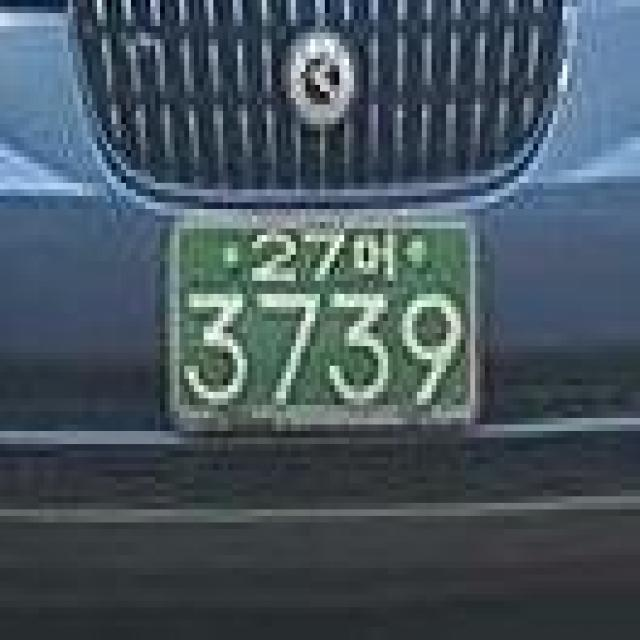illegal_plate: (154, 200, 492, 450)
